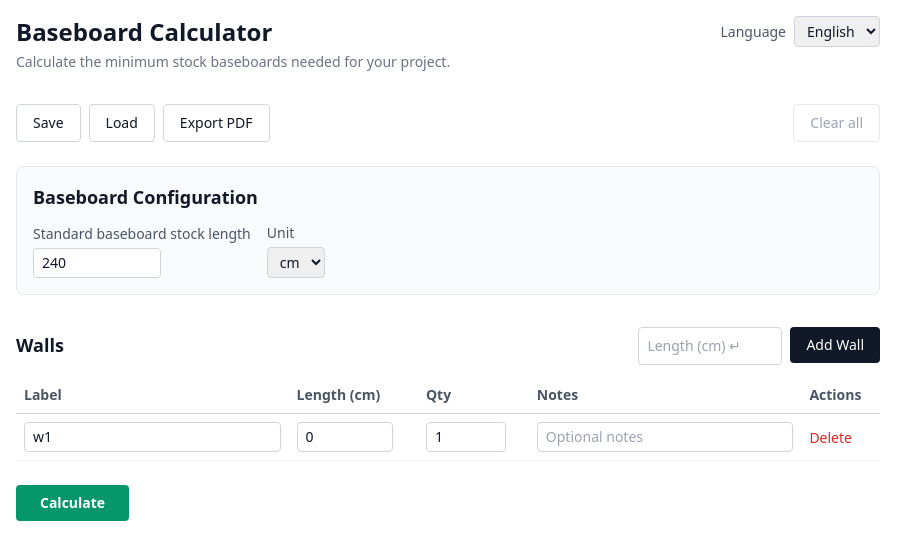
Test: App › quick-entry wall length › rejects invalid input with a hint until the text is corrected
Type "abc" into the field with test id "quick-add-input" at (710, 346), box top-left (638, 327), bottom-right (782, 365)
Then press Enter
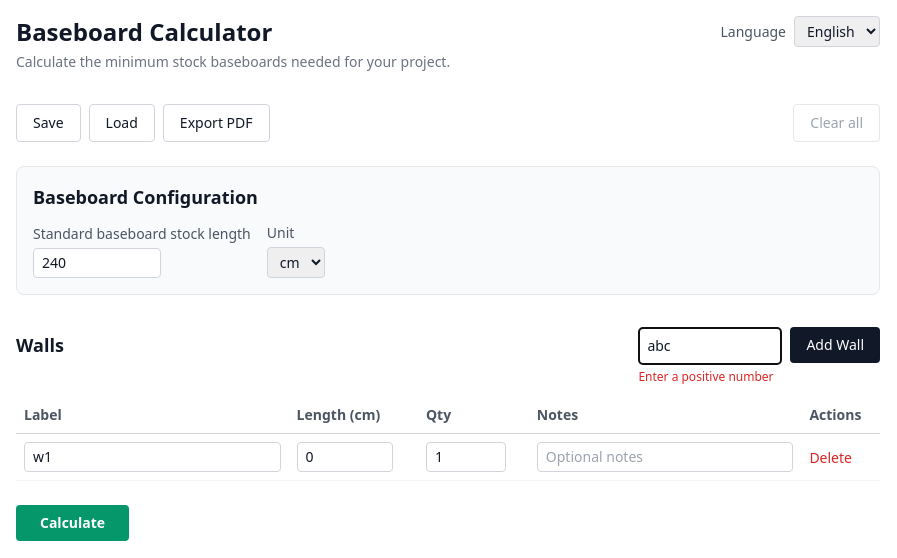
Expected: the number field named "Length" holds "0", top-left (297, 442), bottom-right (393, 472)
Expected: the text "Enter a positive number" is shown, top-left (638, 369), bottom-right (782, 385)
Clear the field with test id "quick-add-input" at (710, 346), box top-left (638, 327), bottom-right (782, 365)
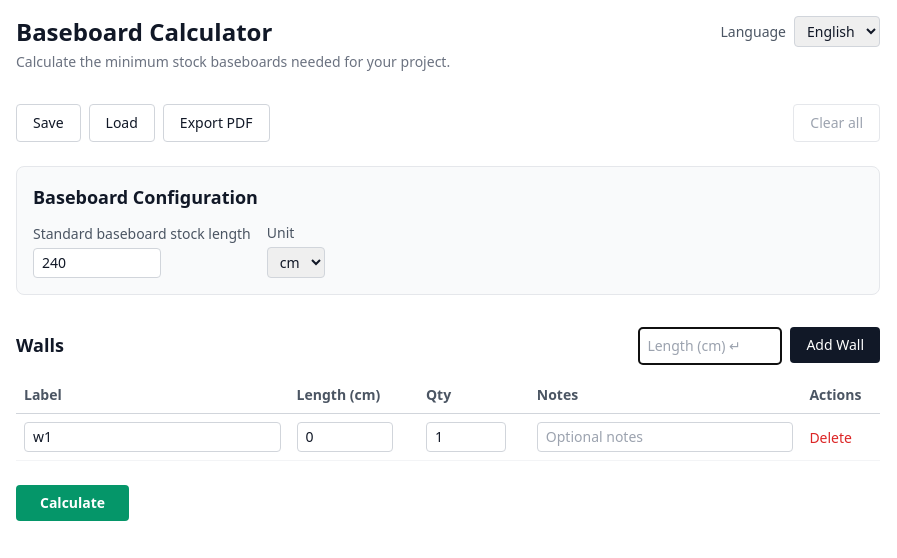
Expected: the text "Enter a positive number" is gone
